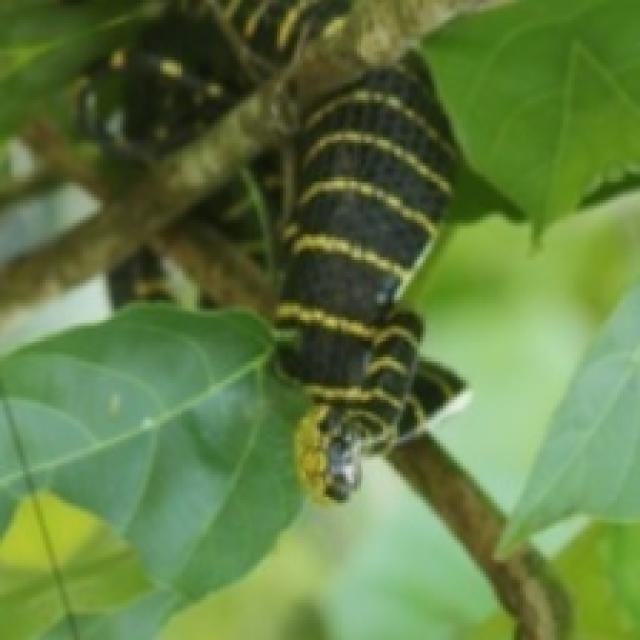mangrove cat snake: (175, 55, 462, 499), (80, 5, 232, 143), (194, 1, 351, 83)
